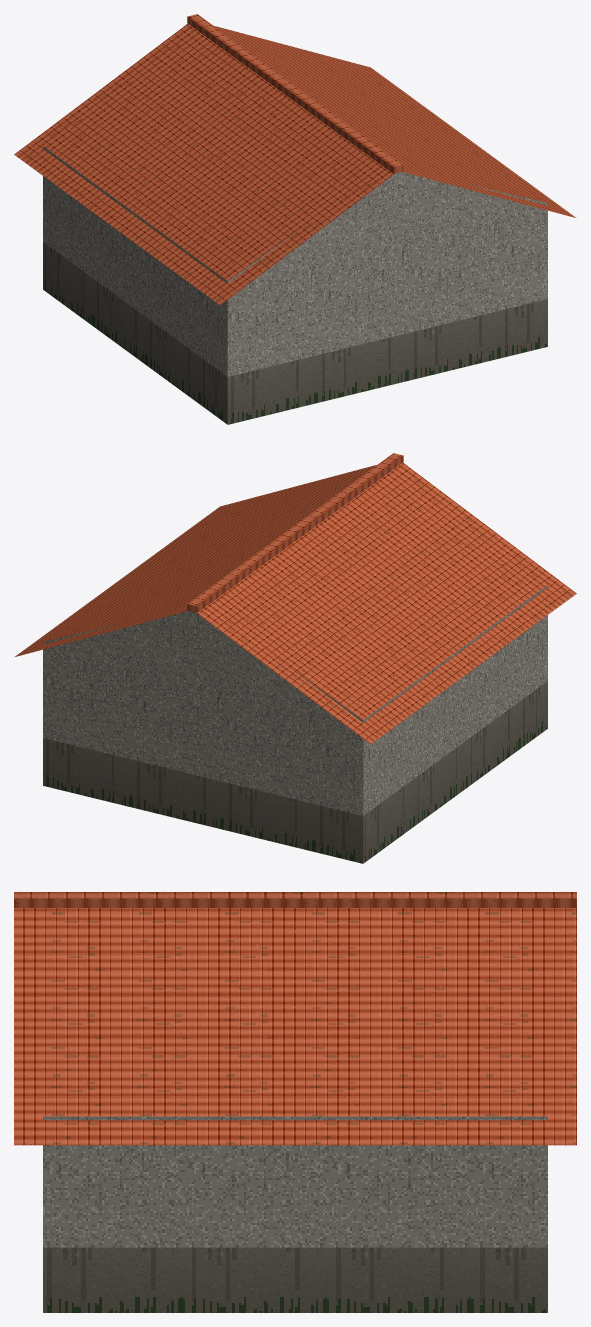
File: bloco_3_chapisco_colonial.glb
3 renders of one model, top to bottom at view 1: azimuth 30°, elevation 25°; view 2: azimuth 150°, elevation 25°; view 3: azimuth 270°, elevation 25°, orthographic. The views are drawn at different scales.
Parts seen in each view (by area): view 1: paredes-col, telhado; view 2: paredes-col, telhado; view 3: telhado, paredes-col.
Part boxes in pixels (x1,y1,x2,y2): paredes-col: (43,146,547,424); telhado: (14,14,575,304); paredes-col: (43,585,547,863); telhado: (15,453,576,743); telhado: (14,892,576,1145); paredes-col: (43,1116,547,1312).
Bounding box in the file's own units: 7.8 × 4.75 × 7.8.
3 materials, 3 textured.
